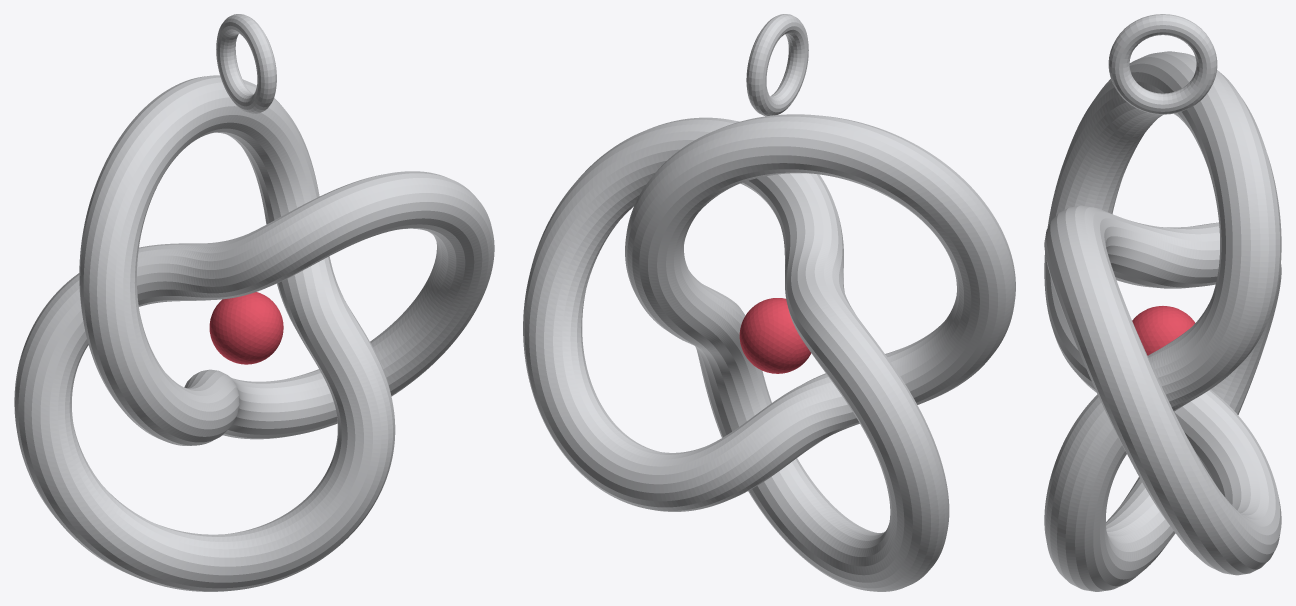
File: card-01.glb
3 renders of one model, left to right at view 1: azimuth 30°, elevation 25°; view 2: azimuth 150°, elevation 25°; view 3: azimuth 270°, elevation 25°, orthographic. The views are drawn at different scales.
Parts seen in each view (by area): view 1: knot, bead, bail; view 2: knot, bail, bead; view 3: knot, bail, bead.
Boxes of the visible parts, x1=… form: knot: x1=14, y1=75, x2=494, y2=591; bead: x1=209, y1=292, x2=283, y2=364; bail: x1=216, y1=14, x2=276, y2=113; knot: x1=523, y1=114, x2=1015, y2=591; bail: x1=746, y1=14, x2=808, y2=116; bead: x1=739, y1=298, x2=811, y2=373; knot: x1=1044, y1=51, x2=1281, y2=591; bail: x1=1108, y1=14, x2=1217, y2=114; bead: x1=1132, y1=306, x2=1194, y2=355.
Size of the model in its own units: 0.6064 by 0.7326 by 0.27.
